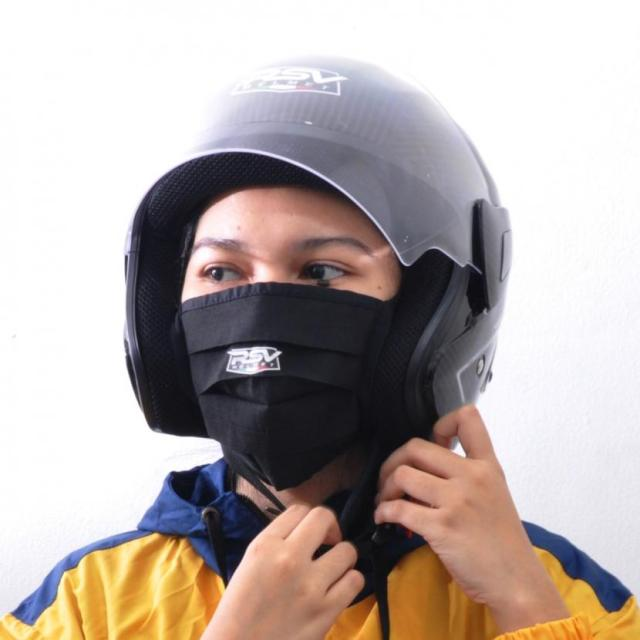Helmet: (125, 58, 511, 449)
